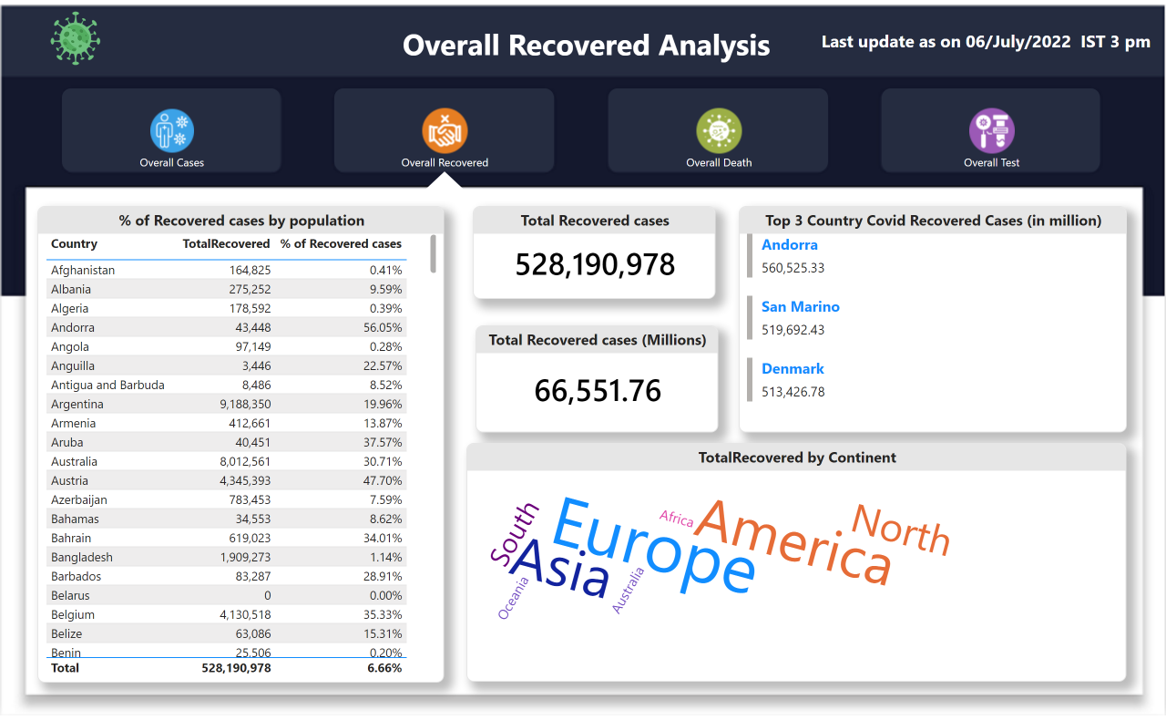

This screenshot's page, from the dashboard's own definition file:
{"tool":"powerbi","page":{"name":"Overall Recovered","canvas":[1280,780],"ordinal":1},"visuals":[{"type":"textbox","box":[436.6,15.6,429.5,59.5],"z":0},{"type":"actionButton","box":[68,92.1,239.6,90.7],"z":1000},{"type":"actionButton","box":[367.1,92.1,241,90.7],"z":2000},{"type":"actionButton","box":[667.6,91.7,241,90.7],"z":3000},{"type":"actionButton","box":[968.2,91.7,239.6,90.7],"z":4000},{"type":"shape","box":[463.5,182.9,48.2,22.7],"z":5000},{"type":"card","title":"Total Recovered cases (Millions)","fields":{"Values":["Calculated Measure.Overall Recovered Cases"]},"box":[521.6,351.5,266.5,117.7],"z":6000},{"type":"textbox","box":[874.6,22.4,393.3,46.6],"z":7000},{"type":"tableEx","title":"% of Recovered cases by population","fields":{"Values":["Covid_Data.Country","Sum(Covid_Data.TotalRecovered)","Calculated Measure.% of Recovered cases by population"]},"box":[41.1,221.1,446.5,523.1],"z":8000},{"type":"card","title":"Total Recovered cases","fields":{"Values":["Sum(Covid_Data.TotalRecovered)"]},"box":[518.8,221.1,266.5,102.1],"z":9000},{"type":"multiRowCard","title":"Top 3 Country Covid Recovered Cases (in million)","fields":{"Values":["Calculated Measure.Overall Recovered Cases","Covid_Data.Country"]},"box":[810.8,220.8,426.1,248.4],"z":10000},{"type":"WordCloud1447959067750","fields":{"Category":["Covid_Data.Continent"],"Values":["Sum(Covid_Data.TotalRecovered)"]},"box":[512.3,481.3,724.5,262.2],"z":11000},{"type":"image","box":[0,0,165.6,74.2],"z":12000}]}

Visuals, with their boxes in screenshot pixels (x1, y1, x2, y2), scaled from the page's 1280x780 canvas onto the 1166x720 screenshot:
textbox: box(398, 14, 789, 69)
actionButton: box(62, 85, 280, 169)
actionButton: box(334, 85, 554, 169)
actionButton: box(608, 85, 828, 168)
actionButton: box(882, 85, 1100, 168)
shape: box(422, 169, 466, 190)
"Total Recovered cases (Millions)" card: box(475, 324, 718, 433)
textbox: box(797, 21, 1155, 64)
"% of Recovered cases by population" tableEx: box(37, 204, 444, 687)
"Total Recovered cases" card: box(473, 204, 715, 298)
"Top 3 Country Covid Recovered Cases (in million)" multiRowCard: box(739, 204, 1127, 433)
WordCloud1447959067750 - Covid_Data.Continent x Sum(Covid_Data.TotalRecovered): box(467, 444, 1127, 686)
image: box(0, 0, 151, 68)
